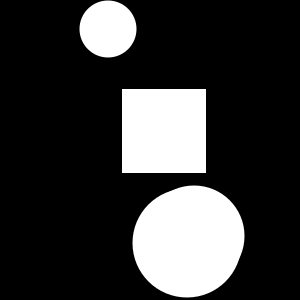circle: (122, 89, 206, 173)
rectangle: (132, 189, 241, 298), (143, 186, 244, 286), (80, 0, 136, 57), (186, 135, 200, 149)
